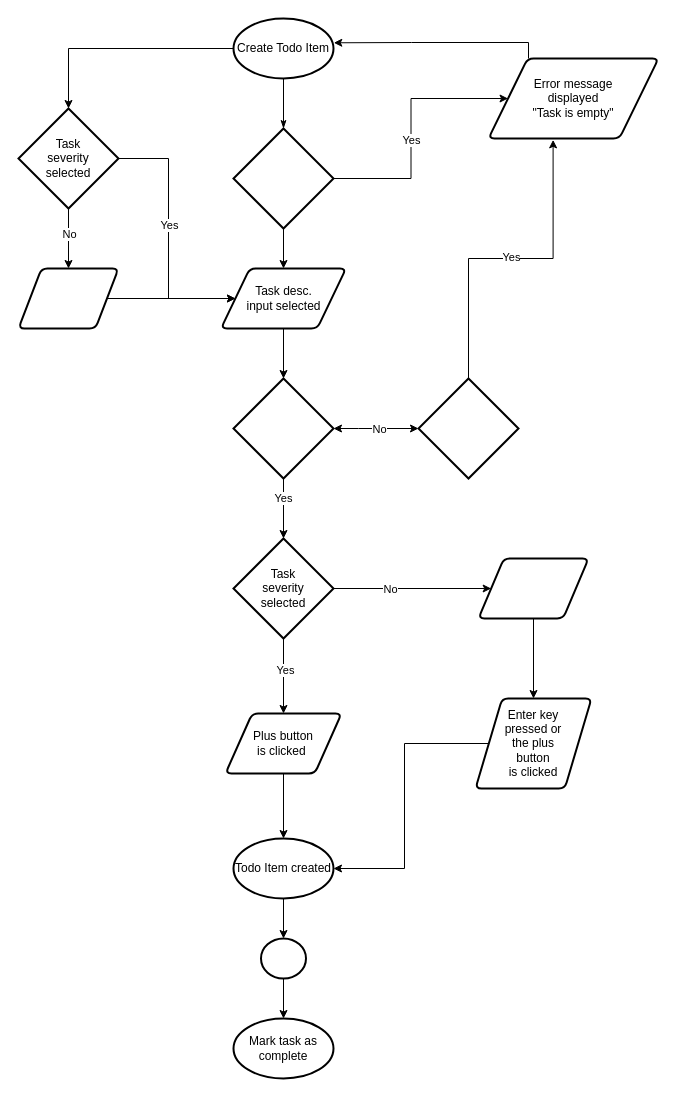
Some shapes in this 676 by 1096 pixel diagram are drawn without their labels. The shapes that lost their labels are listed below. From the top down, each one's centre as x and y in pixels, then its label:
At point 283,178: "Plus button clicked".
At point 68,298: "Severity default to lowest".
At point 283,428: "Task desc. entered".
At point 468,428: "Enter key pressed".
At point 533,588: "Default or previously selected".
